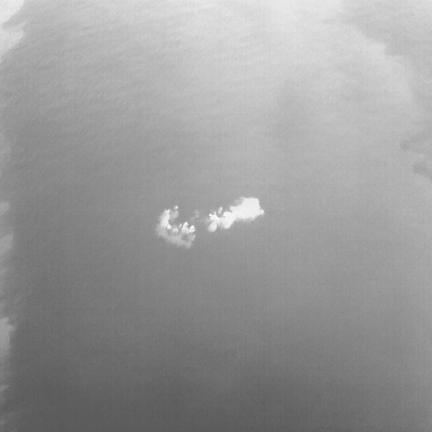flukeprints: (207, 197, 264, 231), (159, 209, 170, 230), (180, 222, 194, 235)
